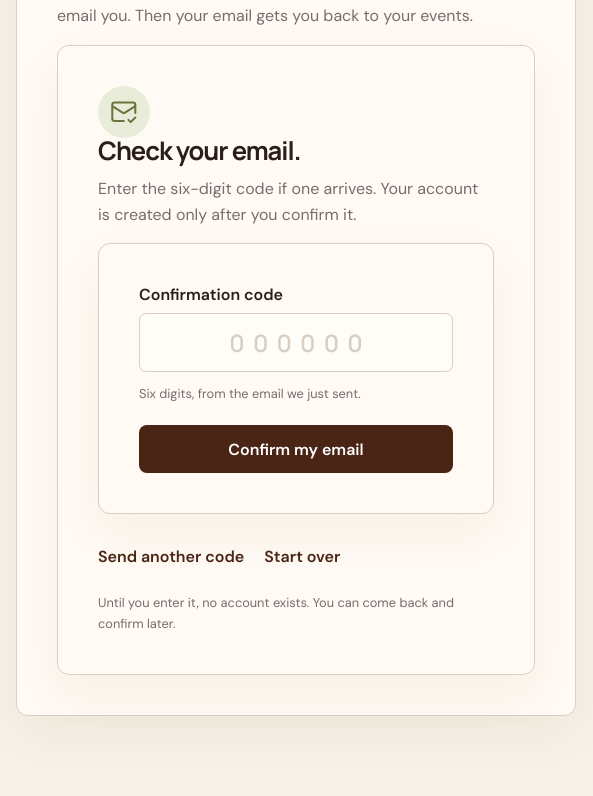
Test case: pending registration pages › preserves the digest on a reload resend and leaves every byte stable on failure
This screenshot has width=593, height=796.
(page scrolled)
Click the button "Send another code": (171, 556) [98,534,244,578]
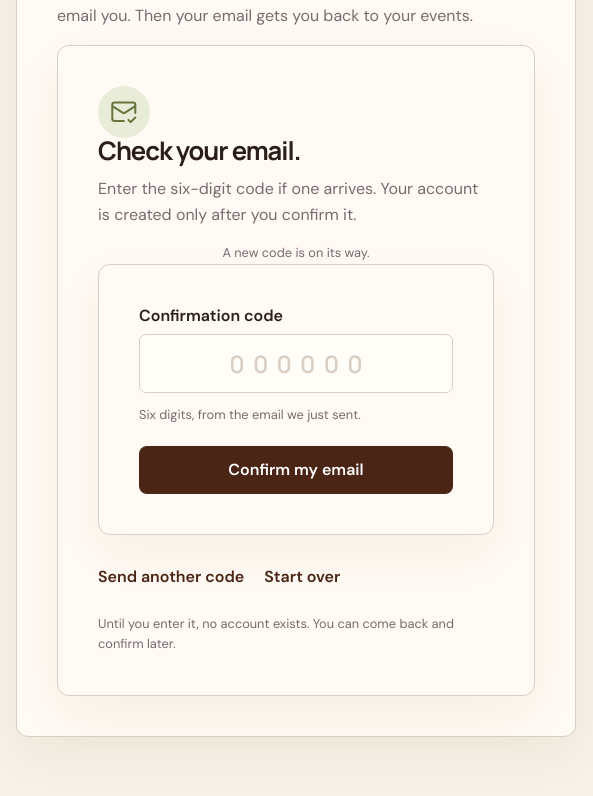
Result: the text "A new code is on its way." is shown at [222,244,370,261]
Click the button "Send another code": (171, 577) [98,555,244,599]
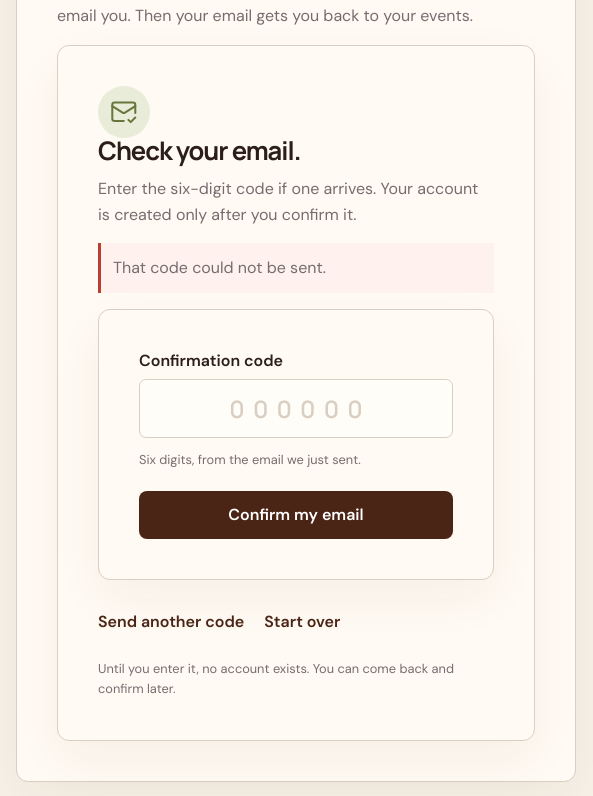
Result: the text "That code could not be sent." is shown at [98,243,494,293]
